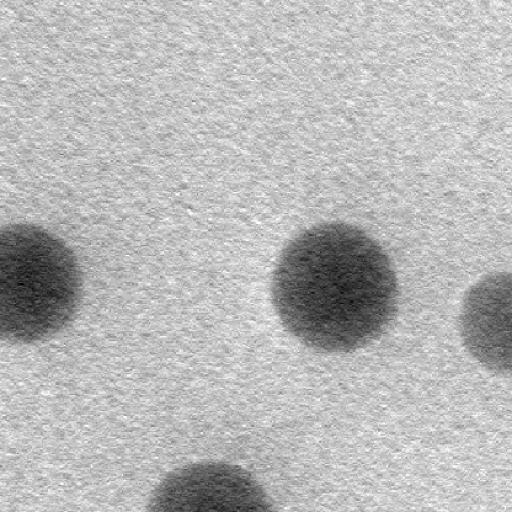Nanoparticles: (272, 220, 398, 349), (0, 222, 82, 338), (147, 460, 278, 510), (460, 267, 512, 373)
